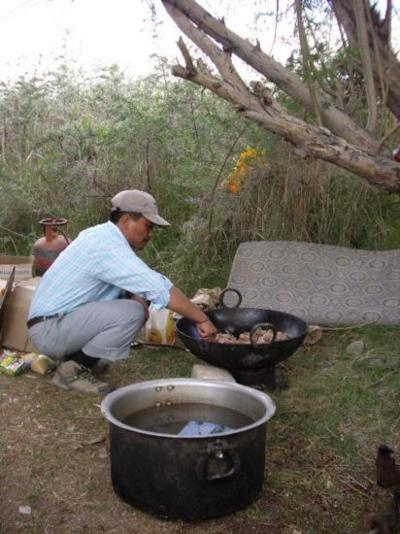person: (26, 188, 214, 395)
